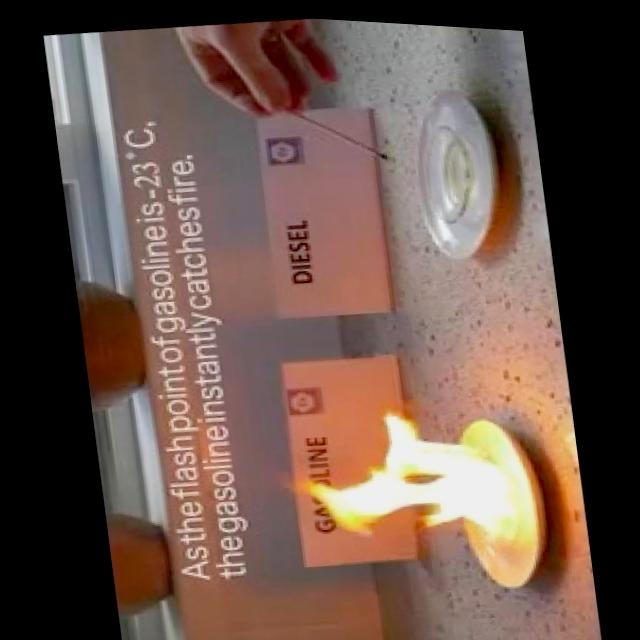helmet: (277, 383, 510, 547)
